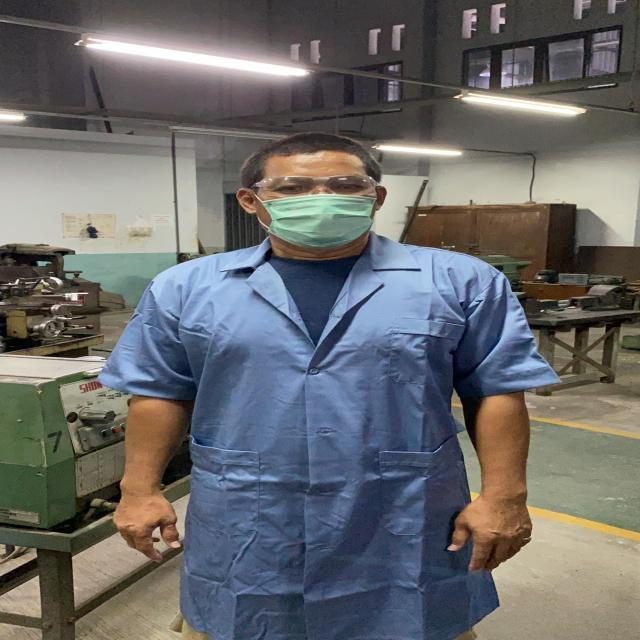glasses: (244, 173, 384, 199)
